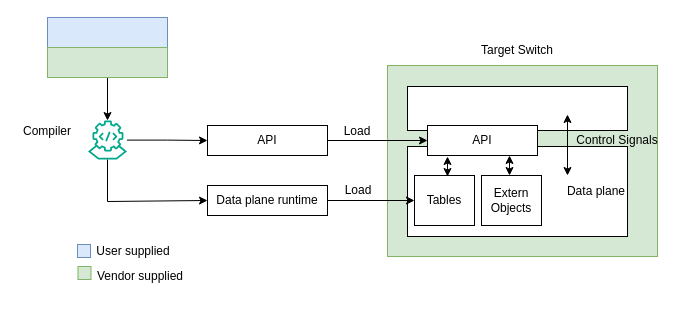
This 684x309 diagram has some shape labels left out. Each missing label, with the centre of its shape:
Architecture: point (107, 62)
Control plane: point (517, 108)
P4 program: point (107, 32)
